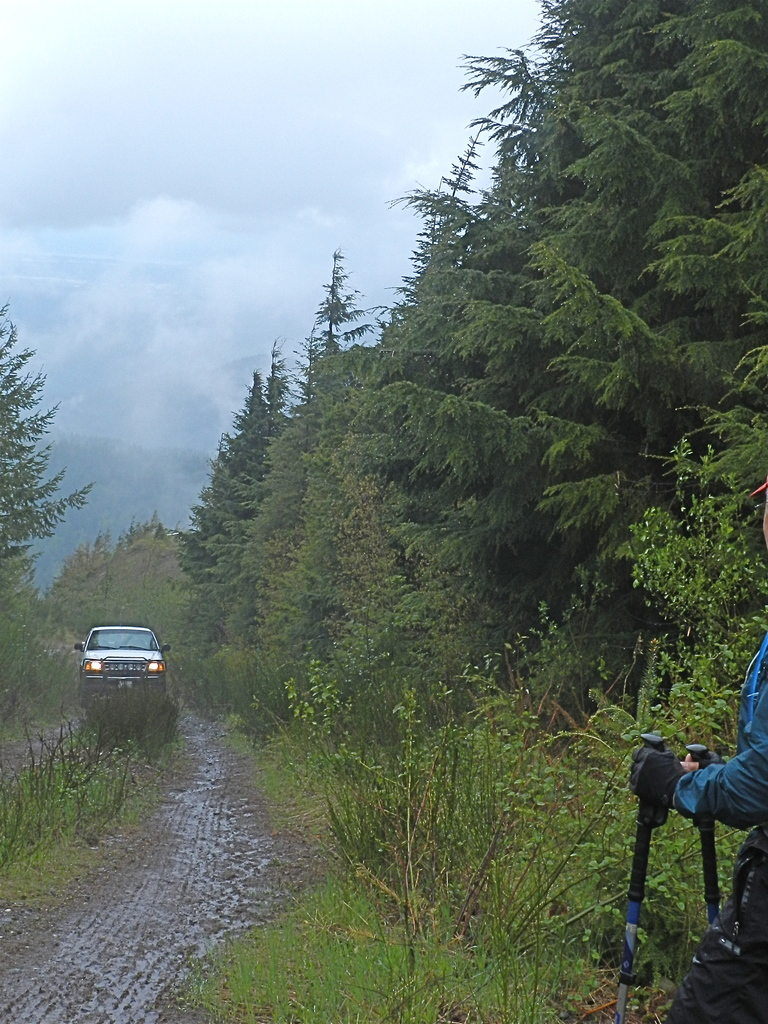Car: (73, 624, 179, 709)
